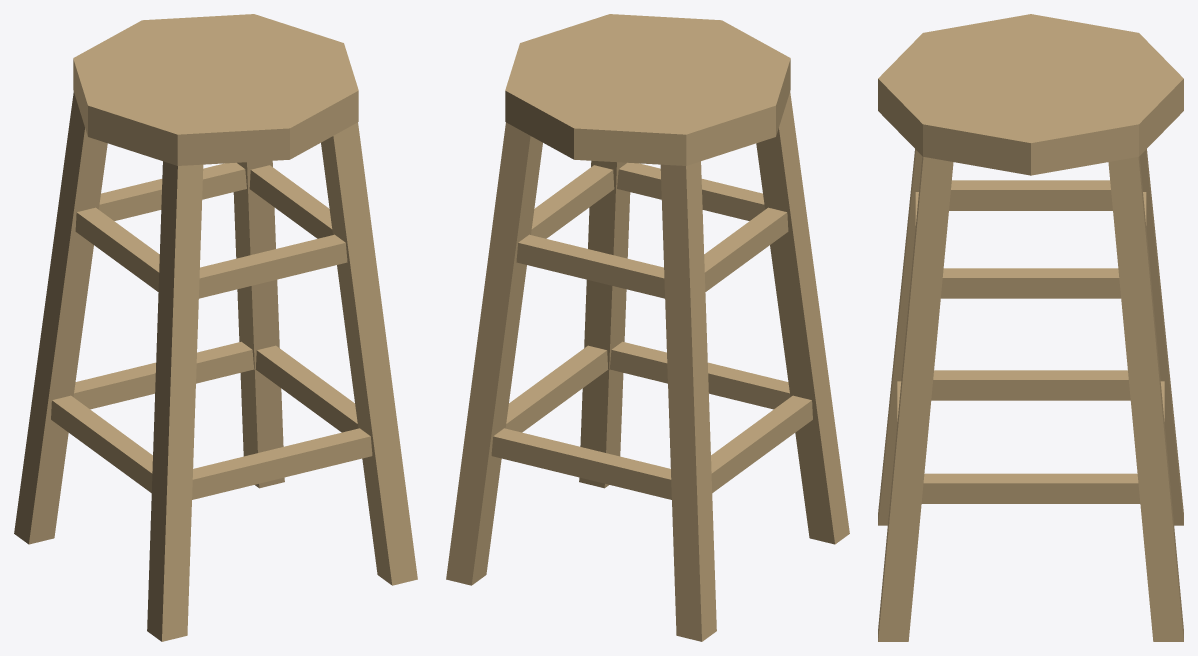
File: Stool3.fbx
The picture shows the model from 3 angles, left to right: view 1: azimuth 30°, elevation 25°; view 2: azimuth 150°, elevation 25°; view 3: azimuth 270°, elevation 25°; orthographic projection. The views are drawn at different scales.
Visible parts, largest first — view 1: Cylinder; view 2: Cylinder; view 3: Cylinder.
Boxes of the visible parts, x1,y1,x2,y2 form: Cylinder: (14, 14, 417, 641); Cylinder: (446, 14, 849, 641); Cylinder: (878, 14, 1183, 641).
Size of the model in its own units: 0.7 by 1.26 by 0.7.
